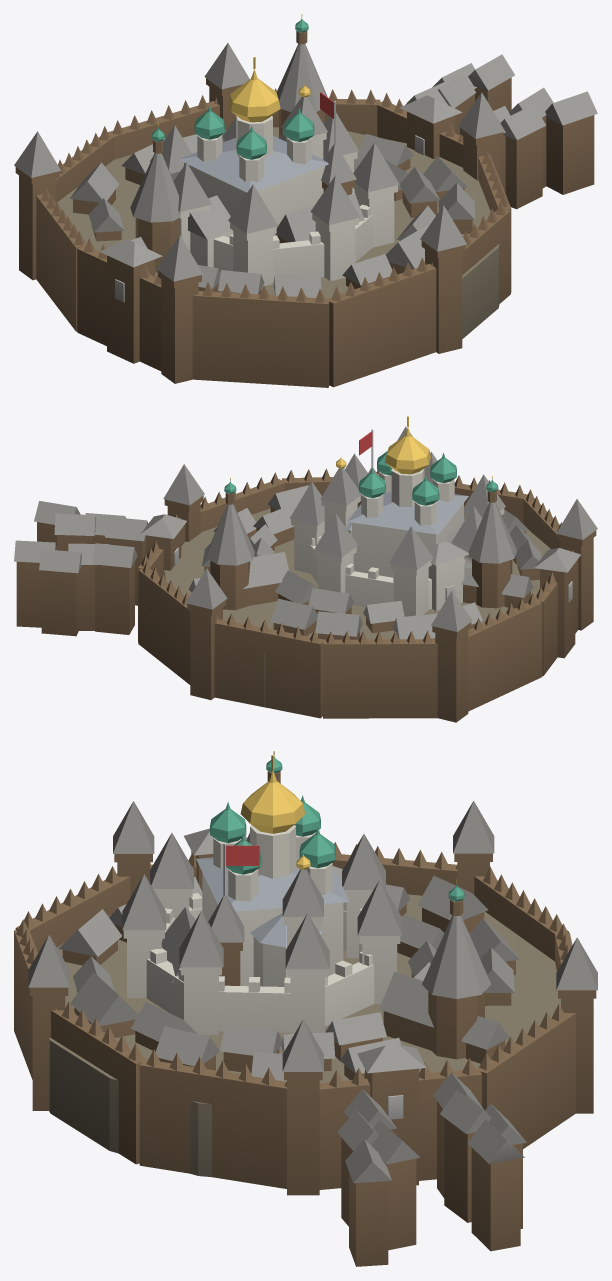
Rendered from city_rus_b.glb.
3 renders of one model, top to bottom at view 1: azimuth 30°, elevation 25°; view 2: azimuth 150°, elevation 25°; view 3: azimuth 270°, elevation 25°, orthographic. The views are drawn at different scales.
Visible parts, largest first — view 1: city_rus_b; view 2: city_rus_b; view 3: city_rus_b.
Boxes of the visible parts, x1,y1,x2,y2 form: city_rus_b: (14,14,597,387); city_rus_b: (14,416,597,722); city_rus_b: (14,751,597,1266).
Bounding box in the file's own units: 3.47 × 1.48 × 2.69.
